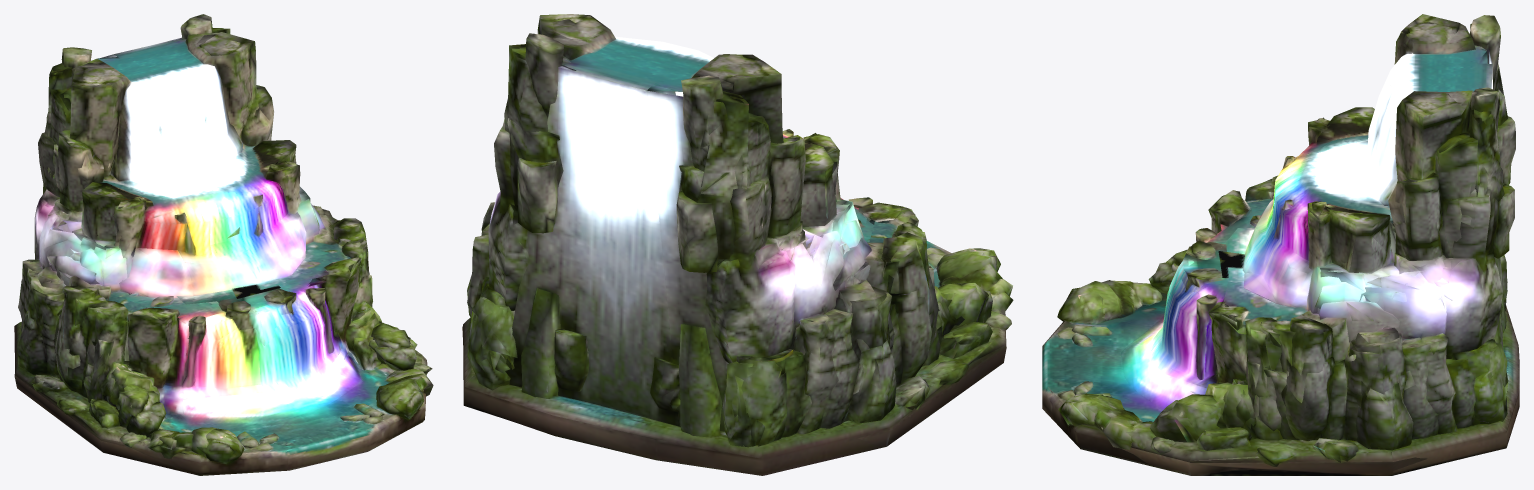
Rendered from Meshy_AI_Prismatic_Cascade_0721143526_texture.fbx.
3 views of the same model, side by side, from view 1: azimuth 30°, elevation 25°; view 2: azimuth 150°, elevation 25°; view 3: azimuth 270°, elevation 25° (orthographic). The views are drawn at different scales.
Visible parts, largest first — view 1: mesh_node; view 2: mesh_node; view 3: mesh_node.
Boxes of the visible parts, left/top/right/bottom form: mesh_node: left=14, top=14, right=433, bottom=475; mesh_node: left=462, top=14, right=1013, bottom=475; mesh_node: left=1042, top=14, right=1519, bottom=475.
Bounding box in the file's own units: 93.16 × 77.15 × 100.
Materials: 1 (1 with a texture image).
